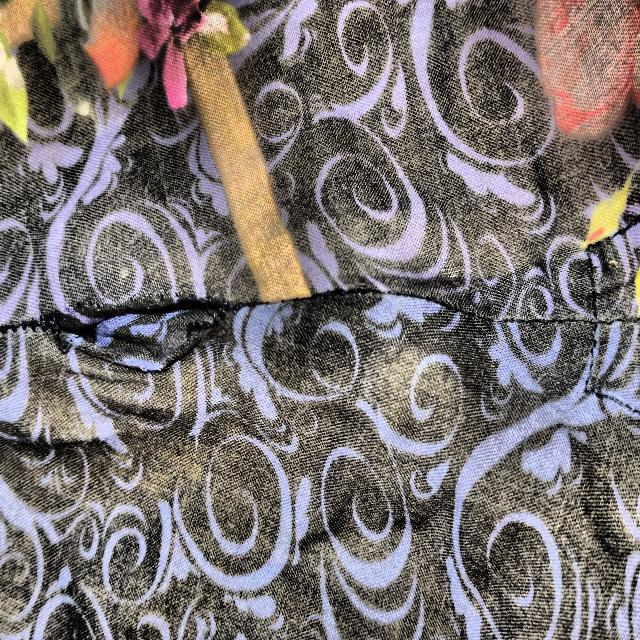seam: (9, 280, 276, 381)
